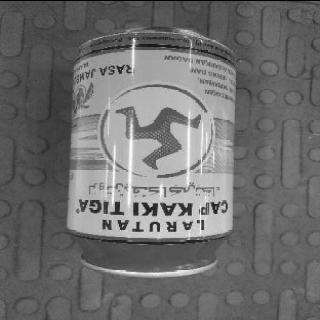alumunium_can: (67, 24, 239, 278)
